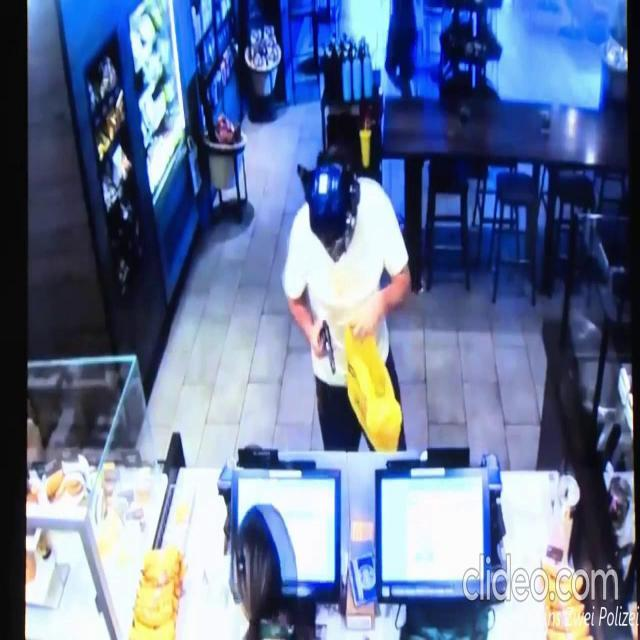pistol: (319, 316, 339, 376)
